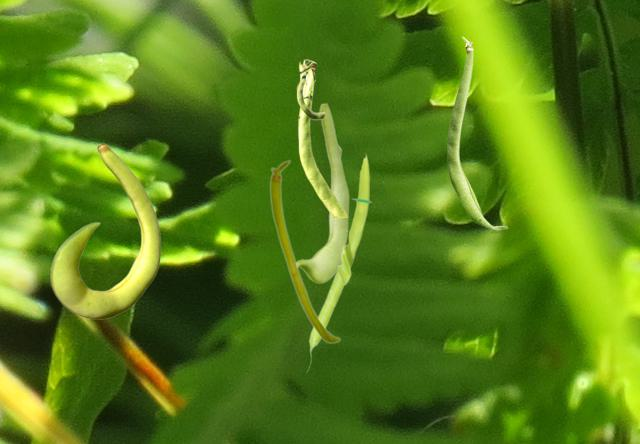french_bean: (50, 143, 160, 318), (306, 152, 371, 372), (269, 159, 340, 343), (447, 36, 507, 229), (297, 102, 348, 282), (296, 59, 347, 216)
